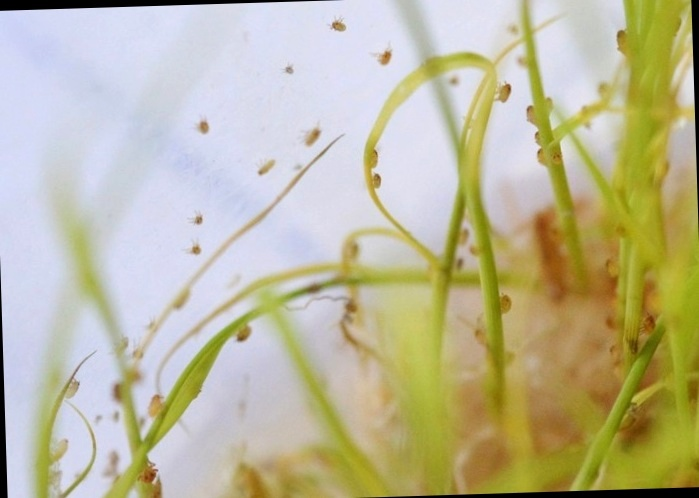Brown_hopper: (613, 400, 644, 432), (136, 459, 163, 491), (142, 393, 169, 421), (636, 311, 663, 338), (370, 44, 396, 70), (301, 121, 326, 148), (612, 26, 631, 61), (321, 14, 355, 32), (493, 80, 515, 107), (229, 325, 255, 345), (368, 146, 383, 173), (545, 149, 566, 168), (497, 292, 514, 314), (183, 240, 205, 257), (193, 117, 209, 139), (369, 170, 383, 193), (194, 209, 205, 228)
